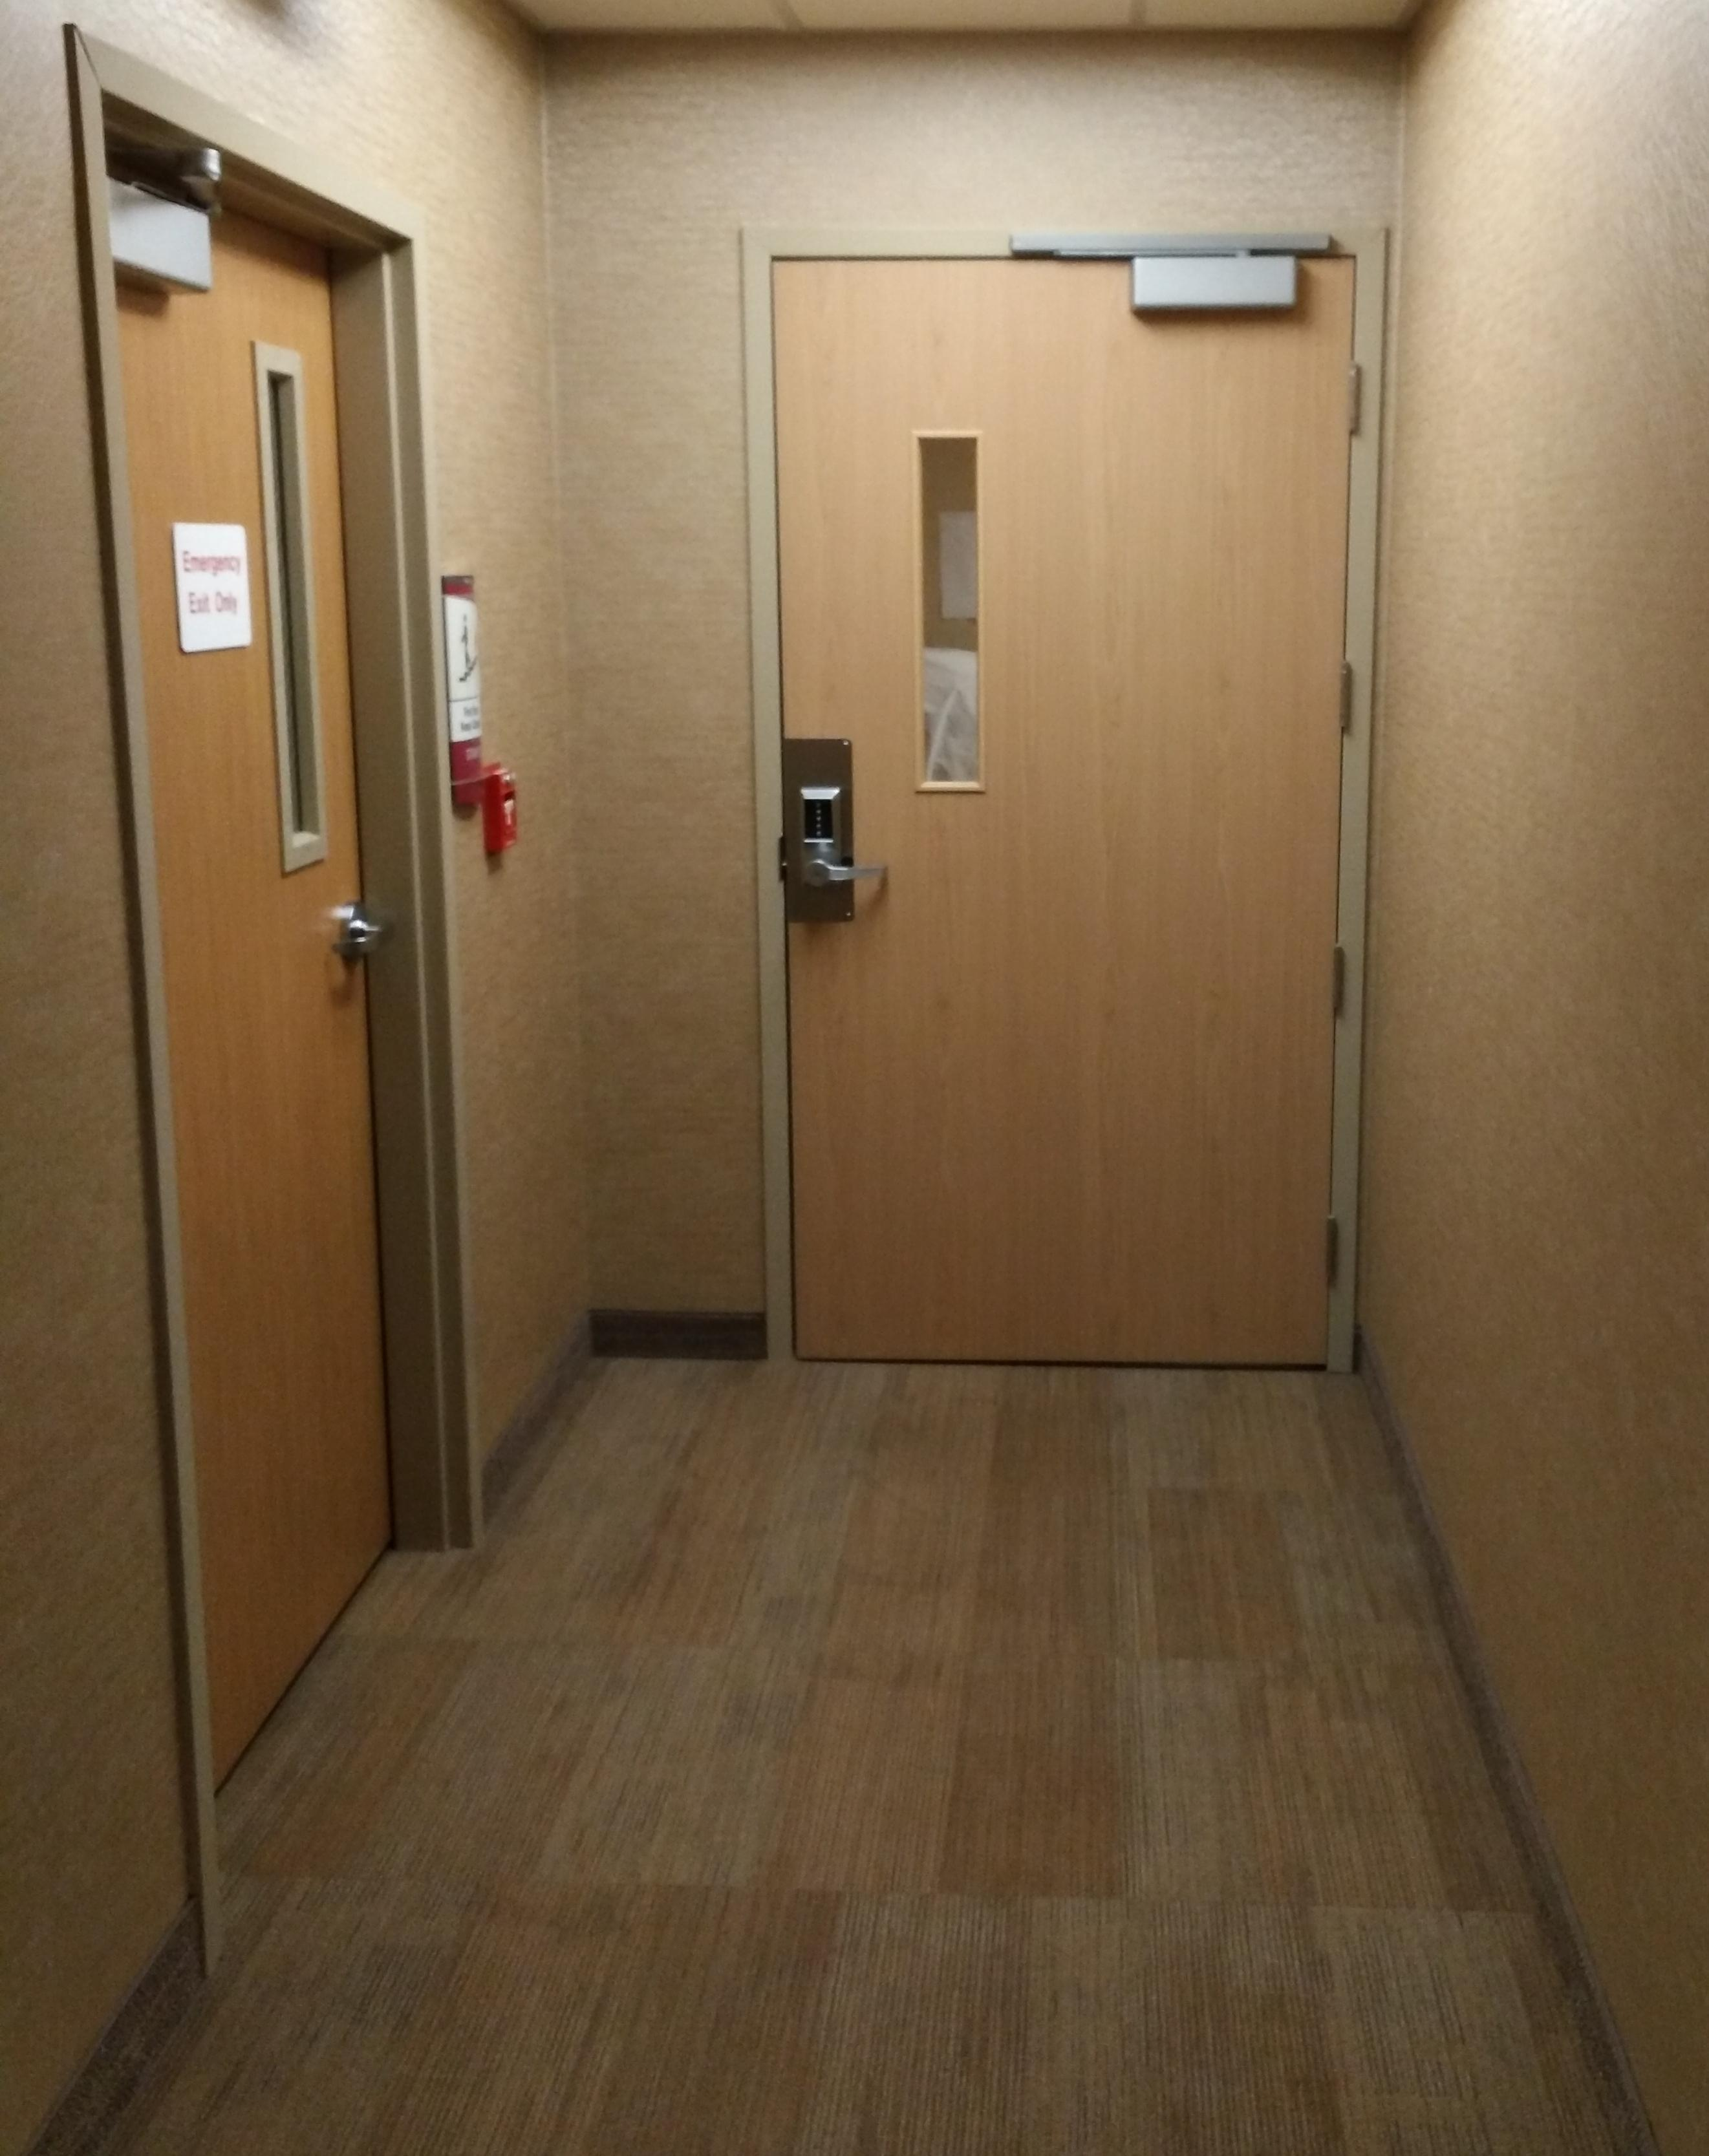door: (60, 30, 469, 1817), (742, 227, 1364, 1382)
